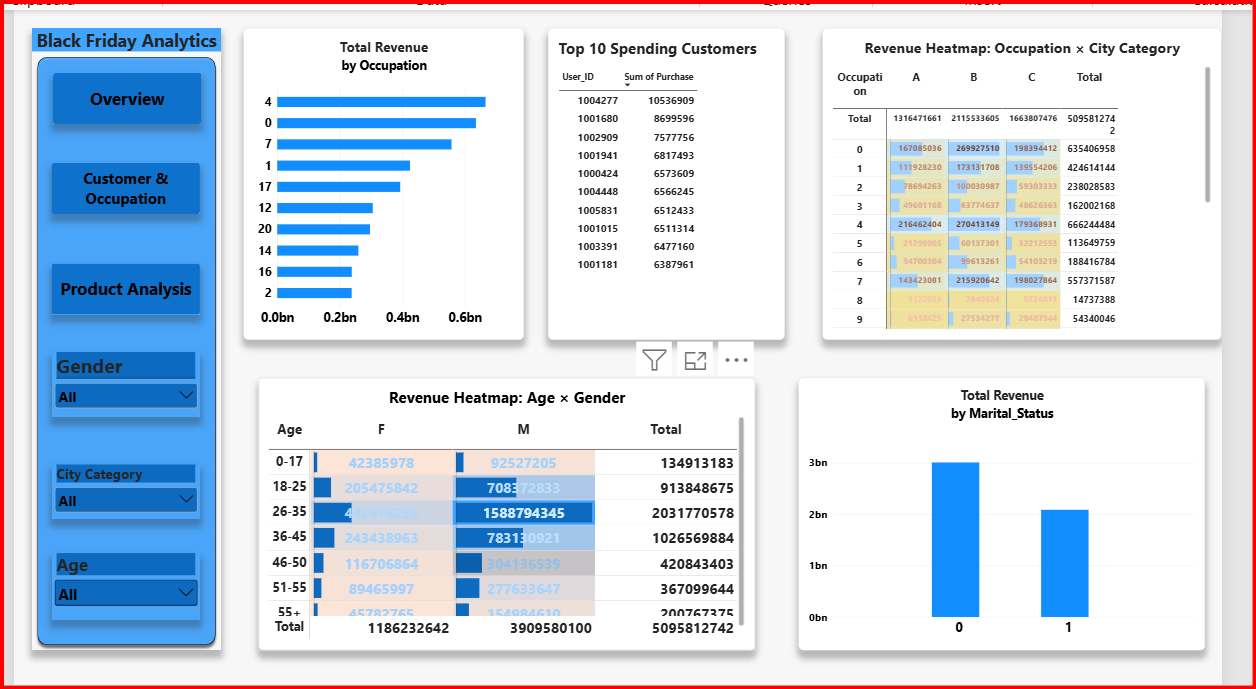

This screenshot's page, from the dashboard's own definition file:
{"tool":"powerbi","page":{"name":"Customer & Occupation ","canvas":[1920,1080],"ordinal":1},"visuals":[{"type":"shape","title":"Black Friday Analytics","box":[28.9,28.9,300.6,990.2],"z":0,"group":"g1"},{"type":"group","id":"g1","title":"Group 2","box":[28.9,28.9,300.4,990.8],"z":0},{"type":"actionButton","box":[62,101.6,236.2,81.1],"z":1000,"group":"g1"},{"type":"clusteredColumnChart","title":"Total Revenue","fields":{"Category":["Black_friday_sales_dataset.Marital_Status"],"Y":["Sum(Black_friday_sales_dataset.Purchase)"]},"box":[1247.8,584.5,646.6,434.2],"z":1000},{"type":"clusteredBarChart","title":"Total Revenue","fields":{"Category":["Black_friday_sales_dataset.Occupation"],"Y":["Sum(Black_friday_sales_dataset.Purchase)"]},"box":[365,28.6,446.2,496.3],"z":2000},{"type":"actionButton","box":[60.7,404.4,236.2,81.1],"z":2000,"group":"g1"},{"type":"tableEx","title":"Top 10 Spending Customers","fields":{"Values":["Black_friday_sales_dataset.User_ID","Sum(Black_friday_sales_dataset.Purchase)"]},"box":[849.4,28.6,377,496.3],"z":3000},{"type":"actionButton","box":[60.7,242.7,236.2,81.1],"z":3000,"group":"g1"},{"type":"slicer","fields":{"Values":["Black_friday_sales_dataset.Gender"]},"box":[60.7,543.1,236.9,104],"z":4000,"group":"g1"},{"type":"pivotTable","title":"Revenue Heatmap: Age × Gender","fields":{"Columns":["Black_friday_sales_dataset.Gender"],"Rows":["Black_friday_sales_dataset.Age"],"Values":["Sum(Black_friday_sales_dataset.Purchase)"]},"box":[388.9,584.5,789.7,434.2],"z":4000},{"type":"pivotTable","title":"Revenue Heatmap: Occupation × City Category","fields":{"Columns":["Black_friday_sales_dataset.City_Category"],"Rows":["Black_friday_sales_dataset.Occupation"],"Values":["Sum(Black_friday_sales_dataset.Purchase)"]},"box":[1286,28.6,634.7,496.3],"z":5000},{"type":"slicer","fields":{"Values":["Black_friday_sales_dataset.City_Category"]},"box":[60.7,722.2,236.9,86.7],"z":5000,"group":"g1"},{"type":"slicer","fields":{"Values":["Black_friday_sales_dataset.Age"]},"box":[60.7,863.7,236.9,106.9],"z":6000,"group":"g1"}]}

Visuals, with their boxes on the page's 1920x1080 design canvas (x1, y1, x2, y2). These are canvas units, not pixel positions in the 1256x689 screenshot, which may show the page scaled, cropped or inside an application window:
"Black Friday Analytics" shape: (29,29,330,1019)
"Group 2" group: (29,29,329,1020)
actionButton: (62,102,298,183)
"Total Revenue" clusteredColumnChart: (1248,584,1894,1019)
"Total Revenue" clusteredBarChart: (365,29,811,525)
actionButton: (61,404,297,486)
"Top 10 Spending Customers" tableEx: (849,29,1226,525)
actionButton: (61,243,297,324)
slicer - Black_friday_sales_dataset.Gender: (61,543,298,647)
"Revenue Heatmap: Age × Gender" pivotTable: (389,584,1179,1019)
"Revenue Heatmap: Occupation × City Category" pivotTable: (1286,29,1921,525)
slicer - Black_friday_sales_dataset.City_Category: (61,722,298,809)
slicer - Black_friday_sales_dataset.Age: (61,864,298,971)
